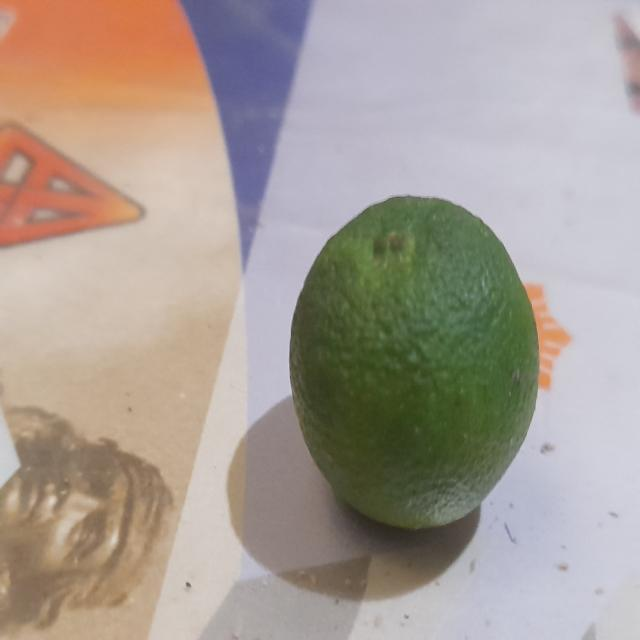heathy: (286, 185, 544, 536)
